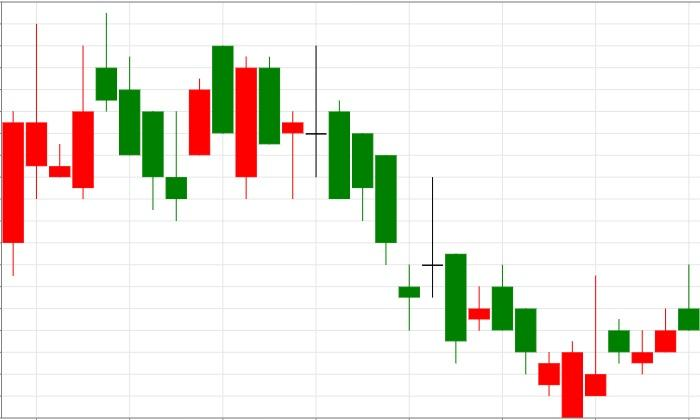inverse_hammer_rise: (329, 99, 607, 418)
